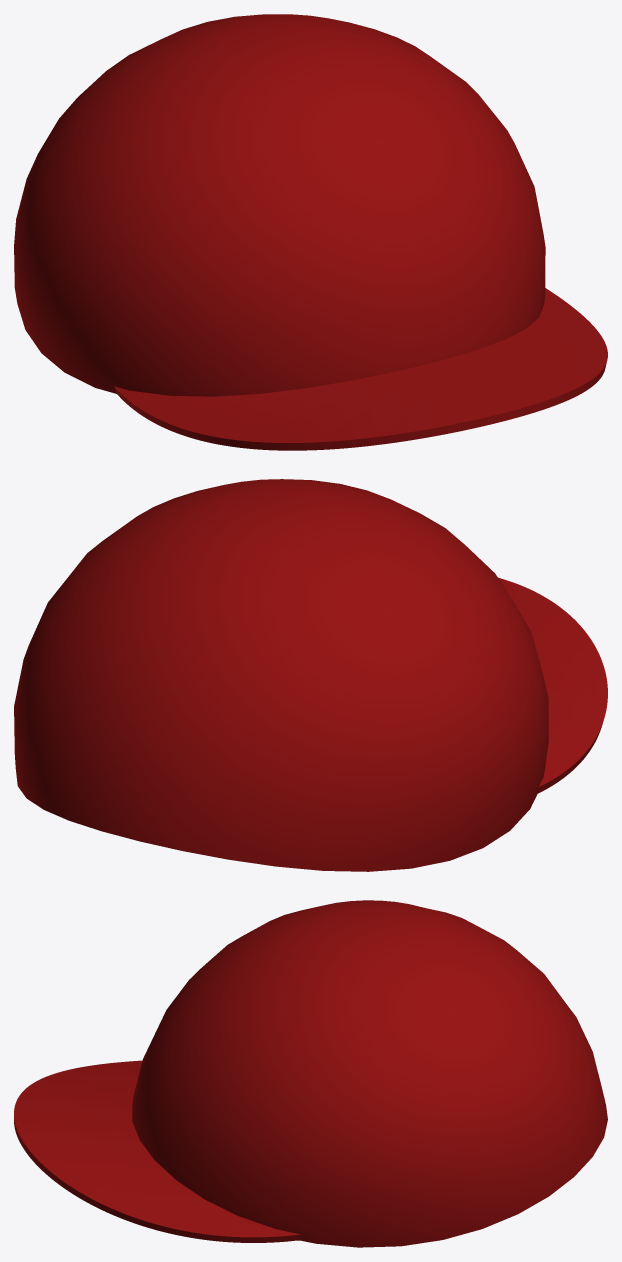
Rendered from Kappe.obj.
3 views of the same model, one above another, from view 1: azimuth 30°, elevation 25°; view 2: azimuth 150°, elevation 25°; view 3: azimuth 270°, elevation 25° (orthographic). The views are drawn at different scales.
Visible parts, largest first — view 1: Sphere001; view 2: Sphere001; view 3: Sphere001.
Boxes of the visible parts, <box> form: Sphere001: <box>14,14,607,450</box>; Sphere001: <box>14,479,607,871</box>; Sphere001: <box>14,900,607,1247</box>.
Size of the model in its own units: 2.62 by 1.48 by 3.47.
